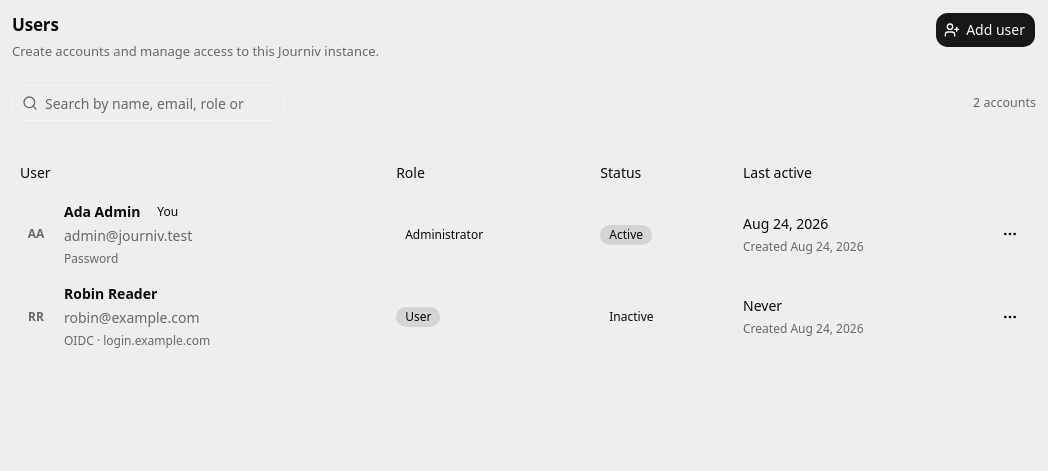
Test: Administration users › updates active status from the row action and reports a refused write
Expected: the text "Robin Reader" is shown, [64,284,157,303]
Click the button named "Robin Reader actions": (1010, 317) [992,299,1028,335]
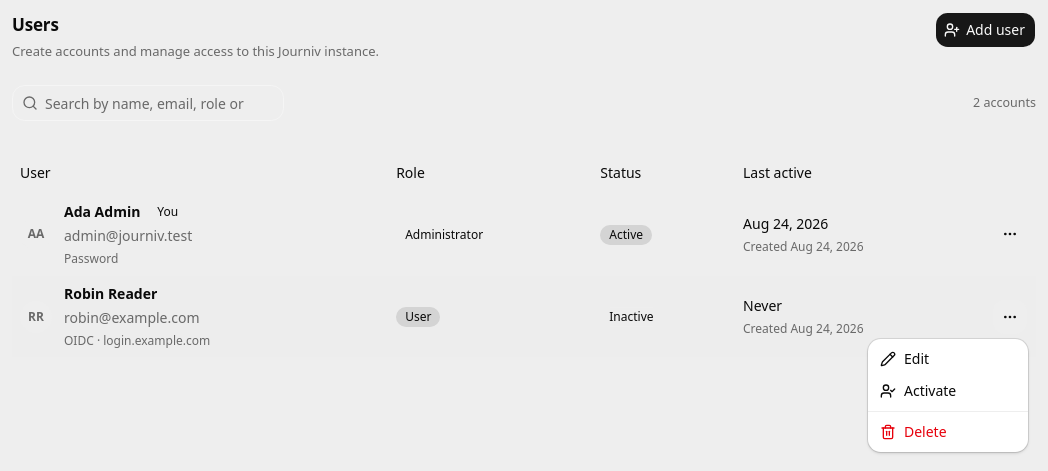
Click the menu item "Activate": (918, 390) [880,381,956,400]
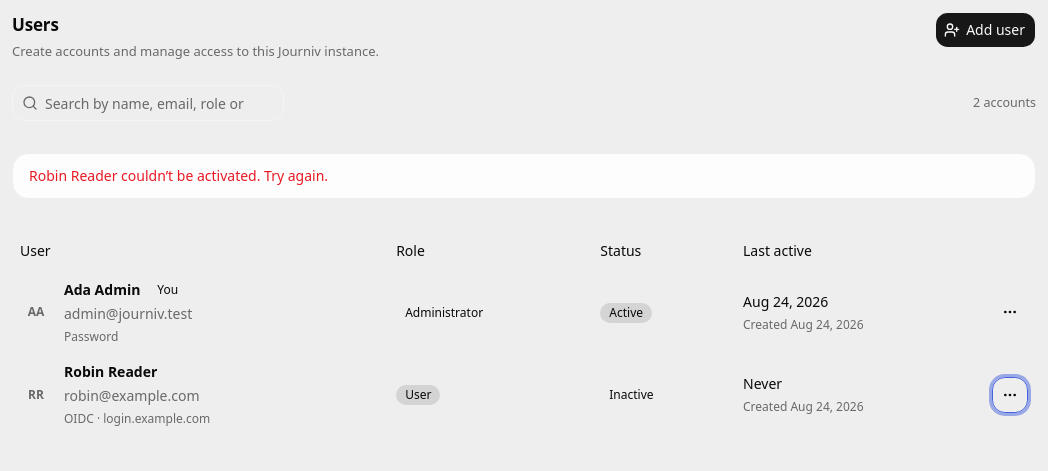
Result: the message shows "Robin Reader couldn’t be activated" at [29,166,328,185]
